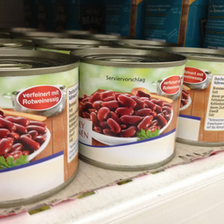beans: (76, 48, 189, 173), (1, 52, 72, 210)
